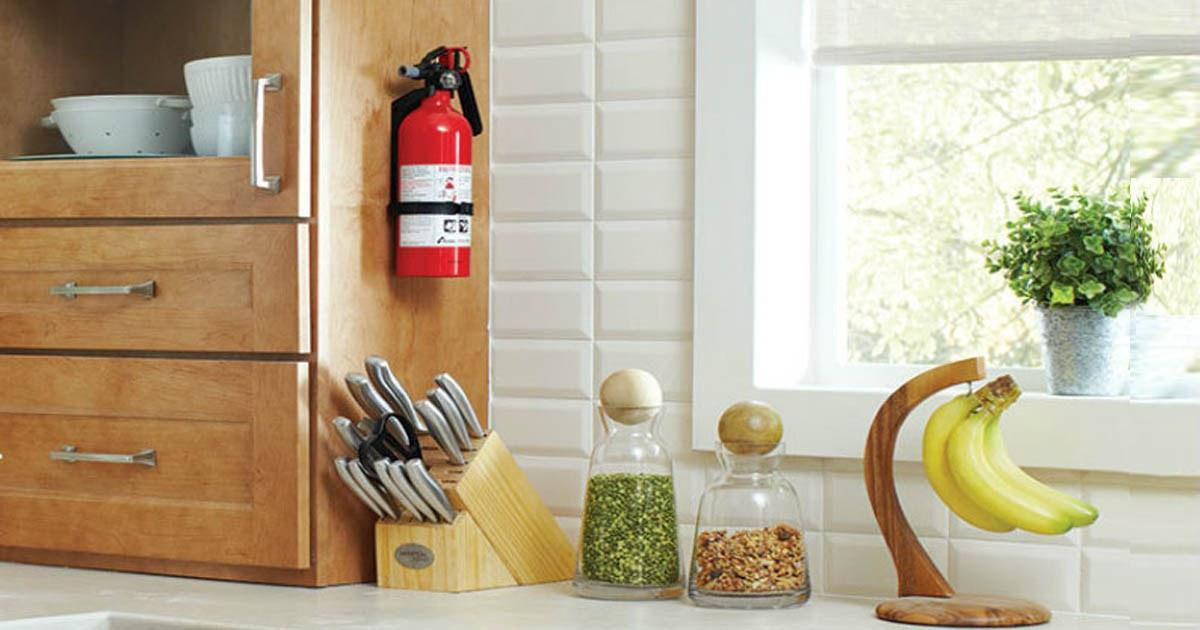Fire Extinguisher: (375, 33, 495, 288)
